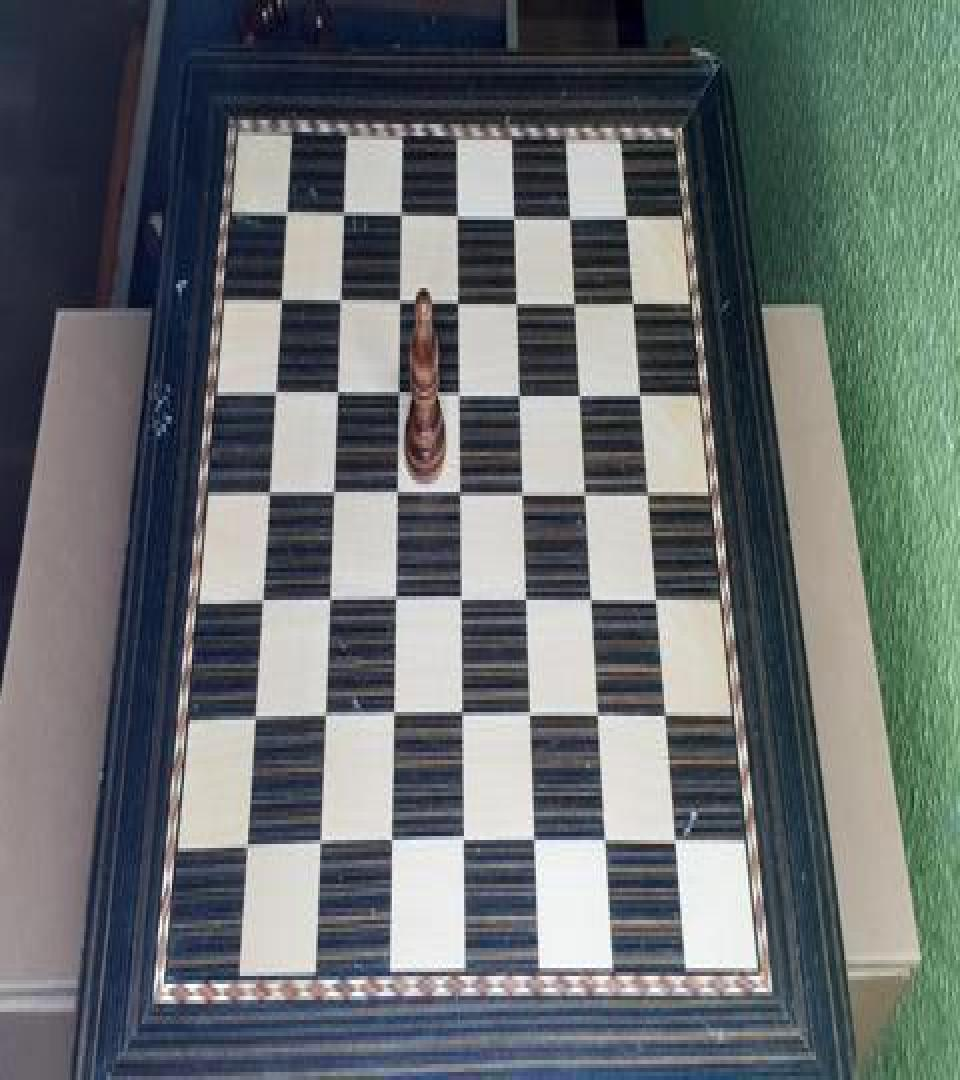xcorner: (279, 184, 297, 220), (273, 272, 291, 308), (268, 368, 286, 404), (262, 470, 280, 506), (255, 580, 273, 616), (248, 700, 266, 736), (241, 830, 259, 866), (337, 186, 355, 222), (334, 274, 352, 310), (331, 368, 349, 404), (327, 470, 345, 506), (323, 580, 341, 616), (319, 700, 337, 736), (314, 830, 332, 866), (395, 188, 413, 224), (394, 276, 412, 312), (393, 370, 411, 406), (391, 472, 409, 508), (390, 582, 408, 618), (389, 700, 407, 736), (387, 830, 405, 866), (452, 190, 470, 226), (453, 278, 471, 314), (454, 372, 472, 408), (455, 472, 473, 508), (457, 582, 475, 618), (458, 700, 476, 736), (459, 828, 477, 864), (509, 192, 527, 228), (512, 280, 530, 316), (515, 374, 533, 410), (519, 474, 537, 510), (522, 582, 540, 618), (526, 700, 544, 736), (531, 828, 549, 864), (566, 194, 584, 230), (571, 280, 589, 316), (576, 374, 594, 410), (582, 476, 600, 512), (588, 584, 606, 620), (594, 700, 612, 736), (602, 828, 620, 864), (622, 196, 640, 232), (629, 282, 647, 318), (636, 376, 654, 412), (644, 476, 662, 512), (652, 584, 670, 620), (662, 700, 680, 736), (672, 828, 690, 864)
